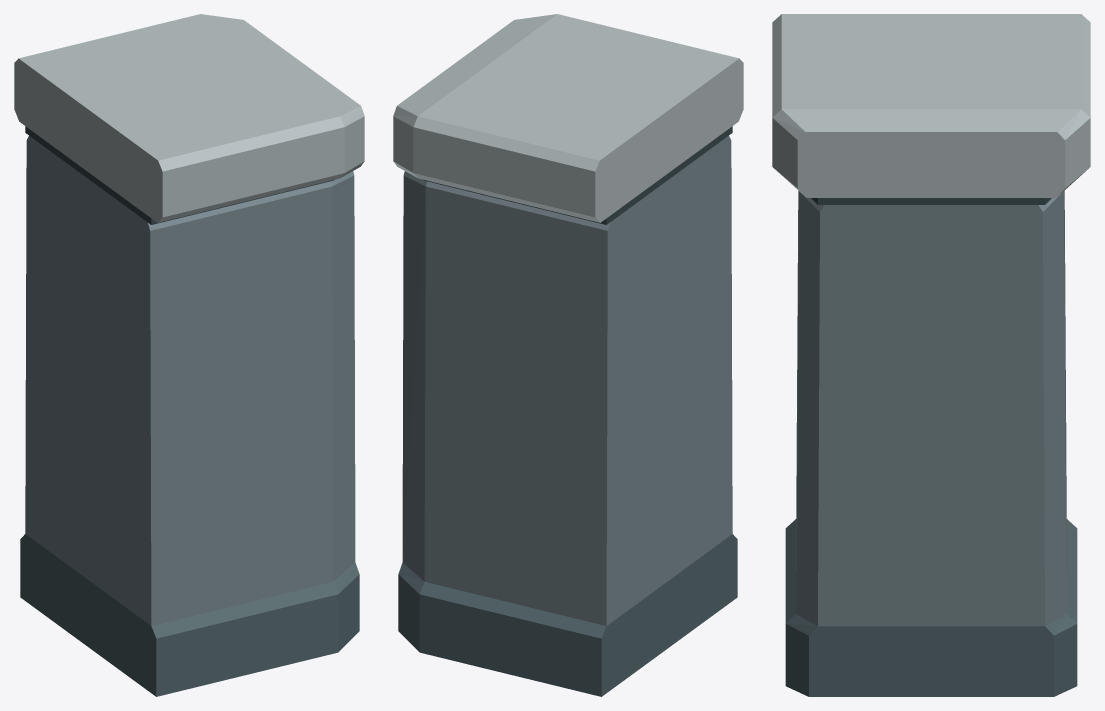
Rendered from city_shore_edges_04_quay_end.glb.
The picture shows the model from 3 angles, left to right: view 1: azimuth 30°, elevation 25°; view 2: azimuth 150°, elevation 25°; view 3: azimuth 270°, elevation 25°; orthographic projection. The views are drawn at different scales.
Visible parts, largest first — view 1: CityShoreEdges04_quay_end_Mesh; view 2: CityShoreEdges04_quay_end_Mesh; view 3: CityShoreEdges04_quay_end_Mesh.
Part boxes in pixels (x1,y1,x2,y2): CityShoreEdges04_quay_end_Mesh: (14, 14, 364, 696); CityShoreEdges04_quay_end_Mesh: (393, 14, 743, 696); CityShoreEdges04_quay_end_Mesh: (772, 14, 1090, 696).
Bounding box in the file's own units: 1 × 2.4 × 1.2.
